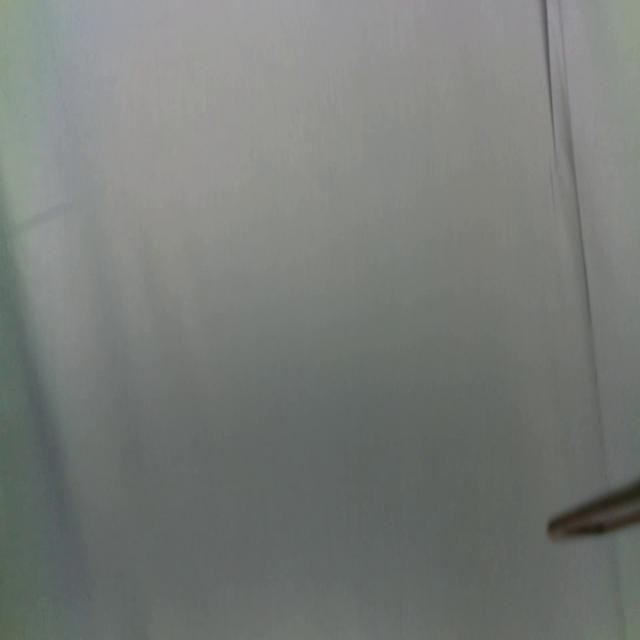crease: (558, 1, 612, 488), (540, 0, 557, 163)
